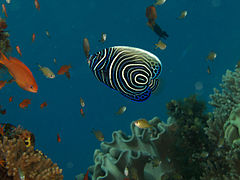Pomacanthus_imperator: (85, 40, 174, 105)
